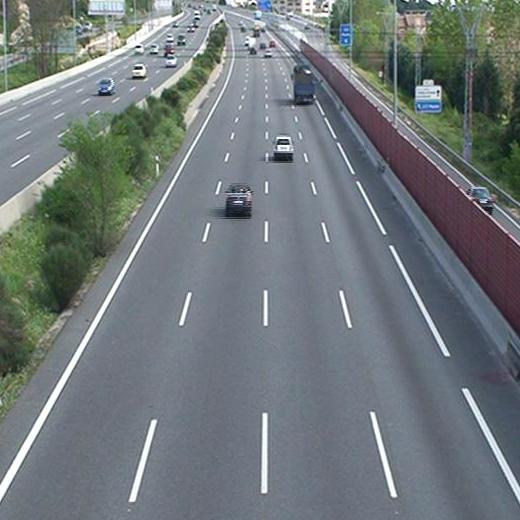car: (223, 185, 254, 213), (273, 135, 295, 159)
small-truck: (292, 64, 317, 103)
